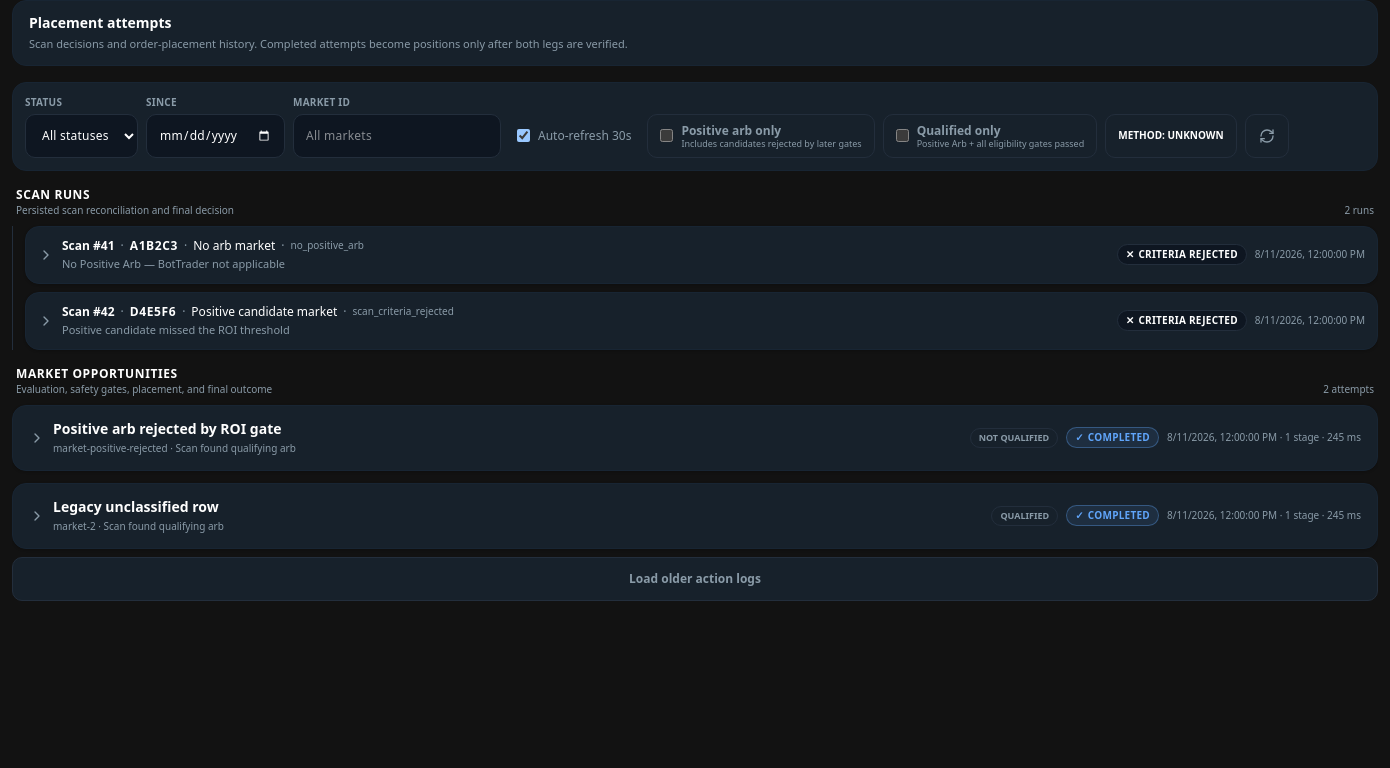
Test: BotActionLogs placement filters › immediately removes only non-positive rows and counts while a positive-arb request fails
Check: the text "Legacy unclassified row" is shown, box top-left (53, 497), bottom-right (219, 516)
Check: the text "No Positive Arb — BotTrader not applicable" is shown, box top-left (62, 256), bottom-right (285, 271)
Click the checkbox labelled "Positive arb only" at (667, 136), box top-left (660, 129), bottom-right (673, 142)
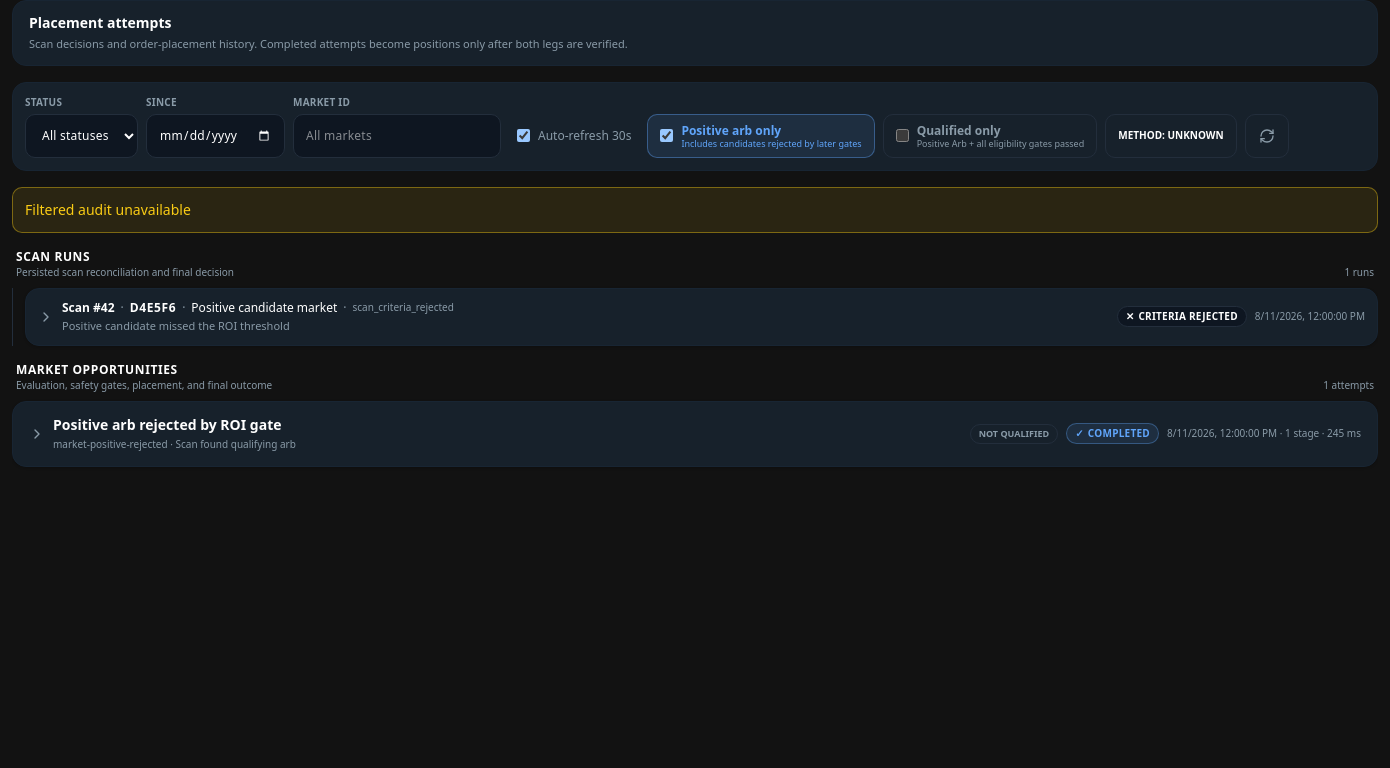
Check: the button "Load older action logs" is gone
Check: the message reads "Filtered audit unavailable", box top-left (25, 200), bottom-right (191, 219)
Check: the button "Legacy unclassified row" is gone
